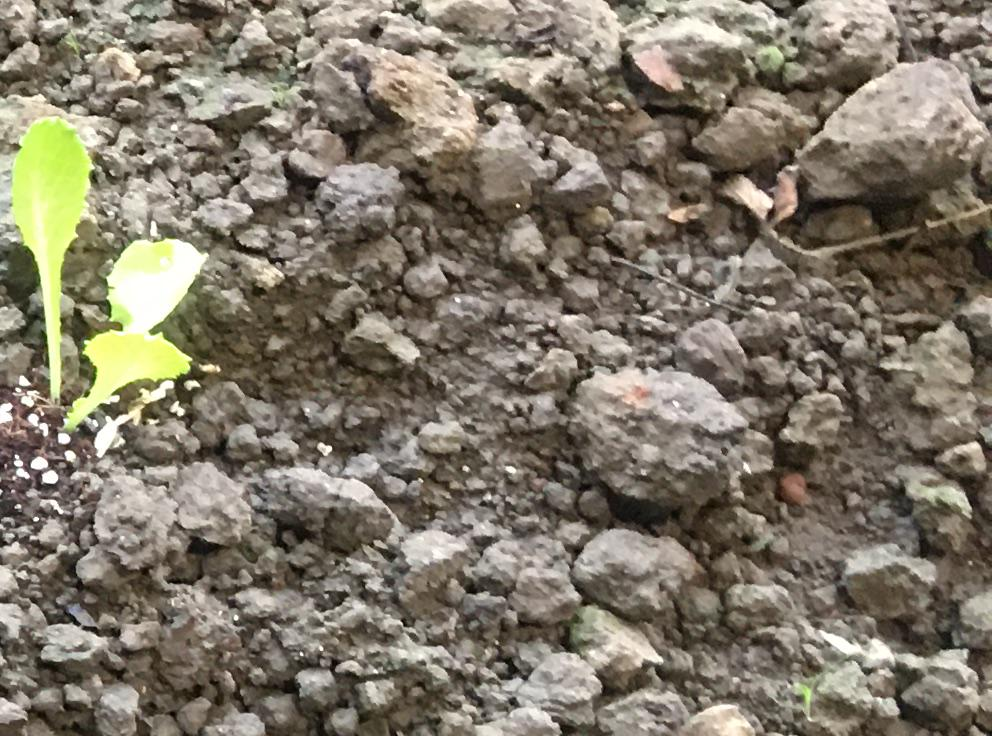block: (792, 57, 988, 213), (569, 362, 738, 509), (570, 524, 690, 619)
